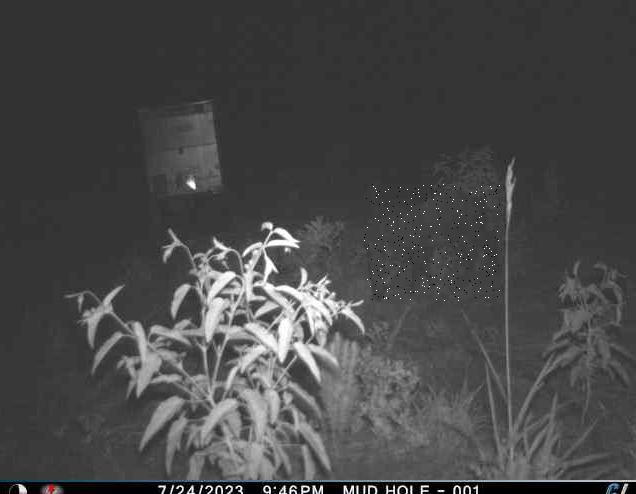Hog: (365, 185, 501, 302)
